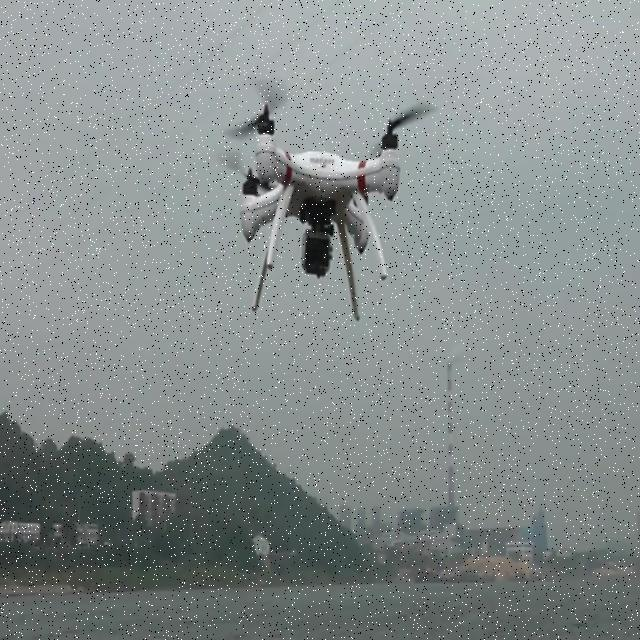UAV: (219, 78, 437, 323)
